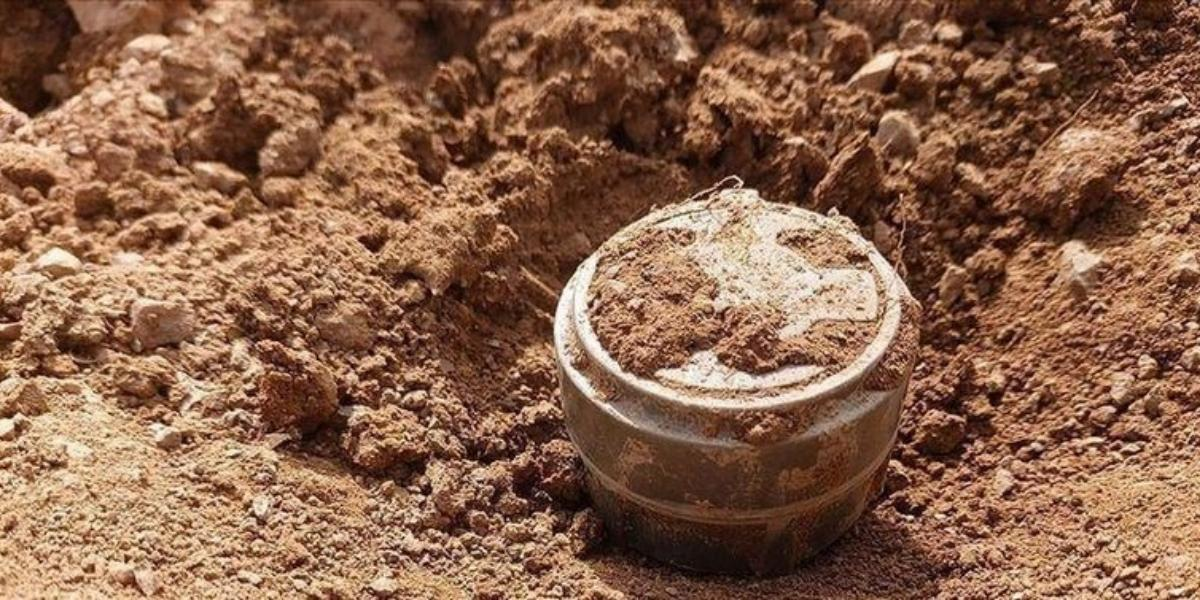pmn: (551, 184, 926, 586)
